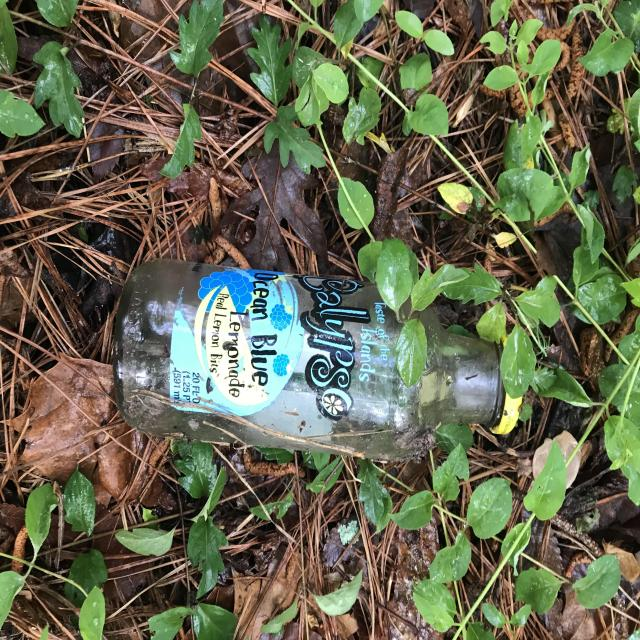litter: (239, 79, 323, 265)
